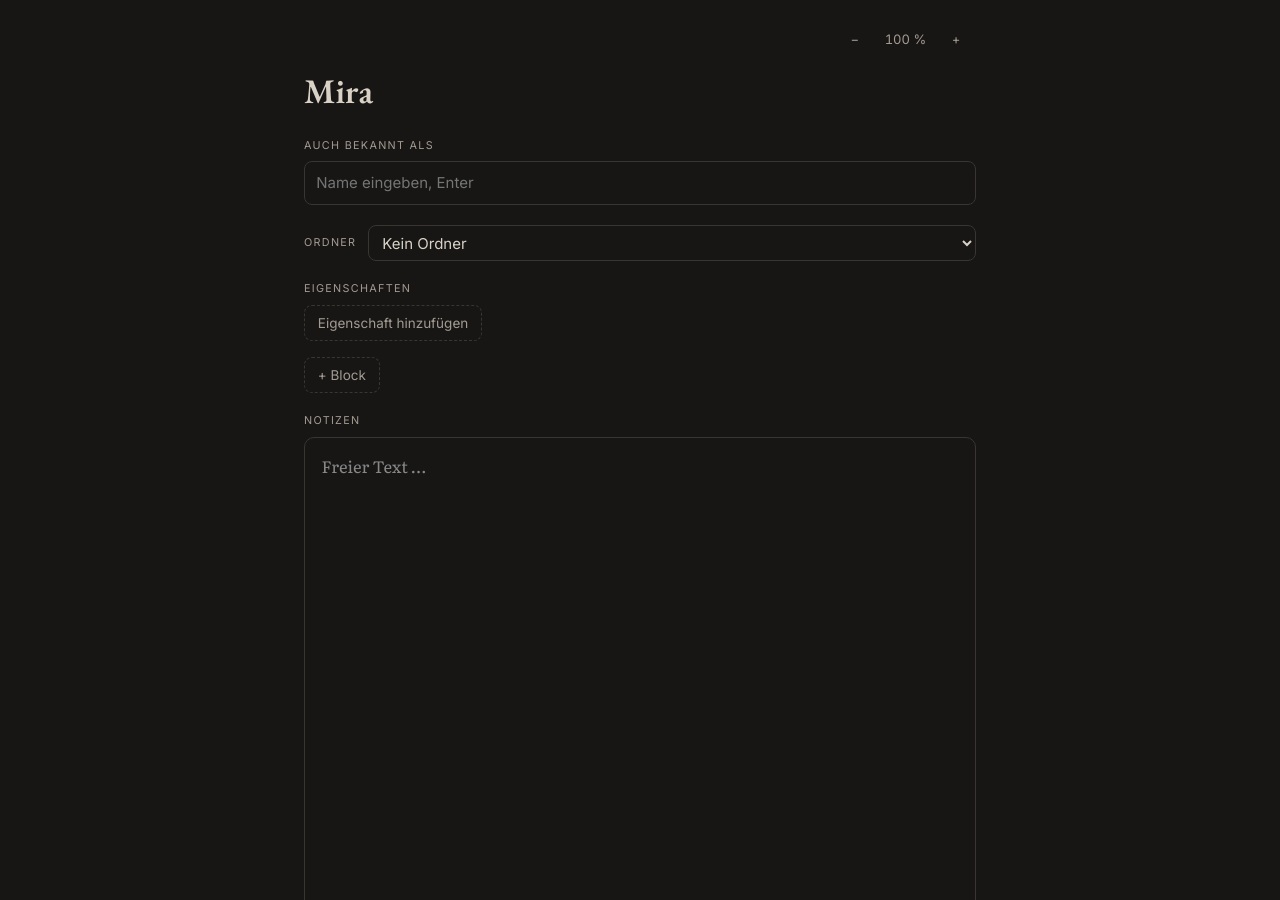
Test: the rename question counts what is stored, not an older list
The image size is (1280, 900).
Step 1. Type "bel" into the field named "Name" → (640, 92), box [304,66,976,118]
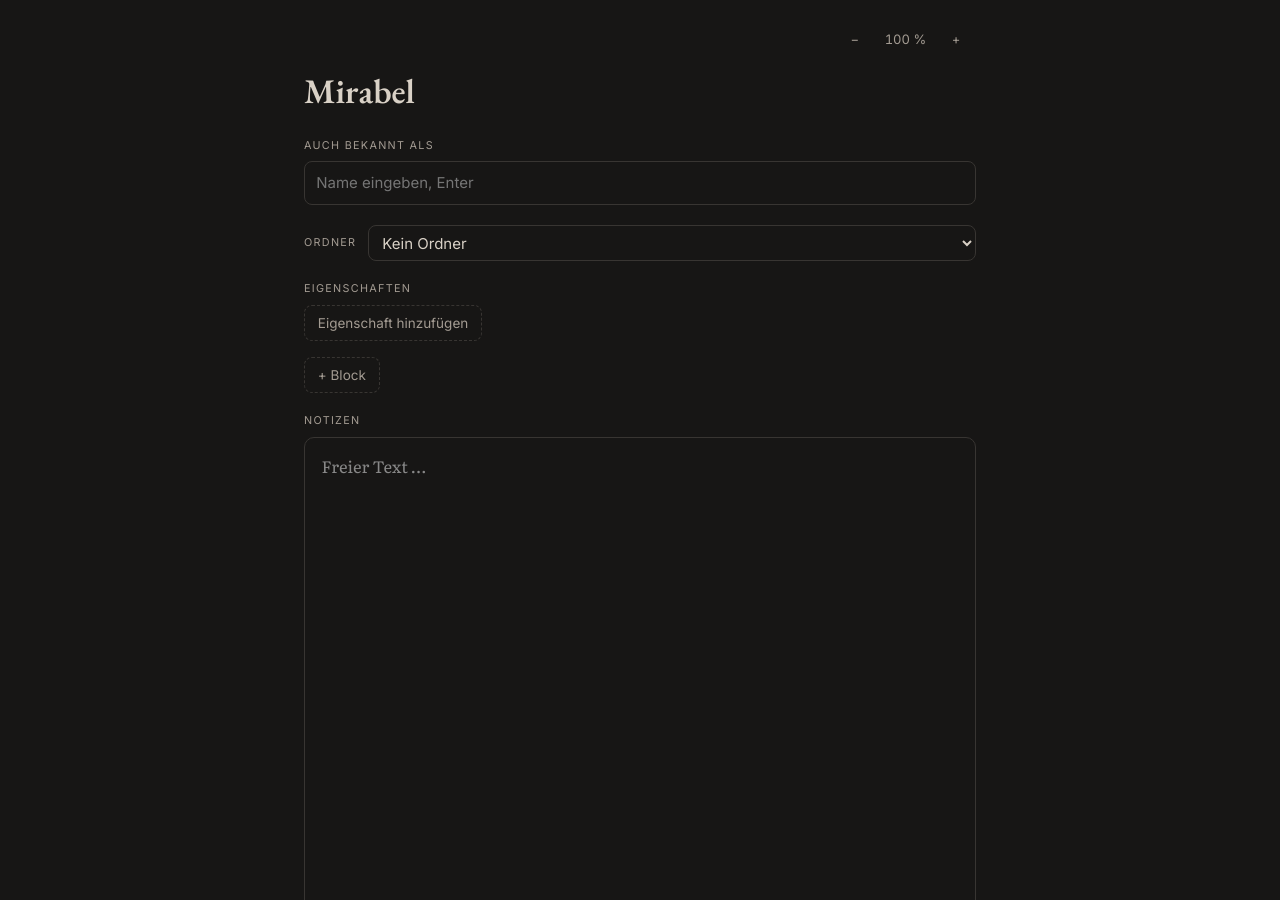
Step 2. Press Tab
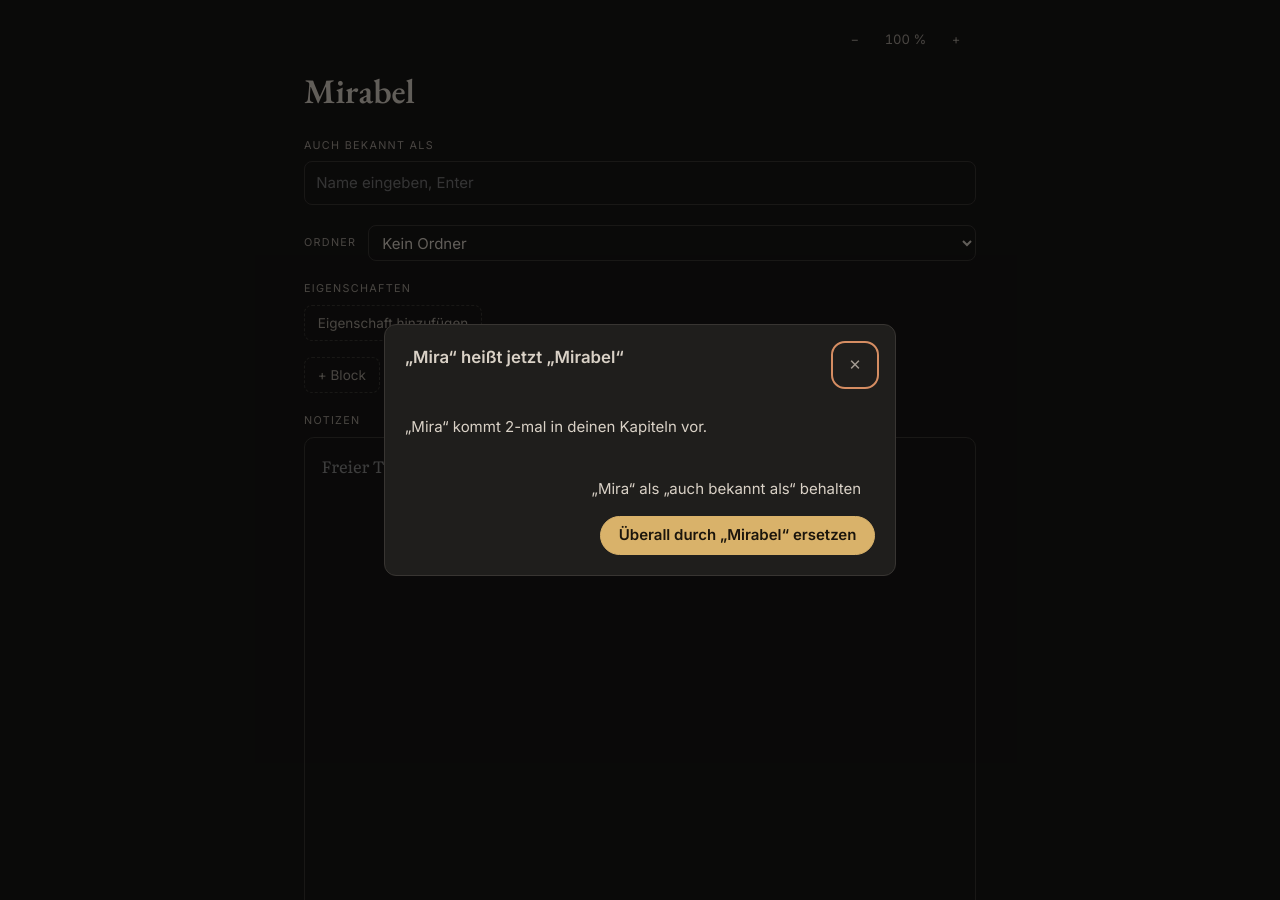
Expected: the text "„Mira“ kommt 2-mal in deinen Kapiteln vor." is shown, [405,417,707,436]
